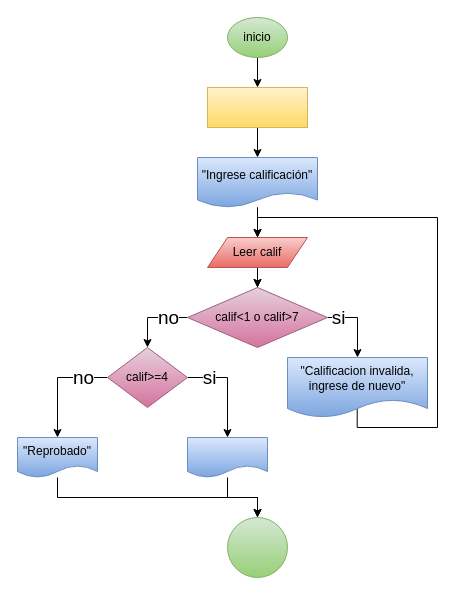
Image size: 463x595. Some labels were removed from this diagram. Each missing label, with the box of its shape:
"Aprobado": (186, 436, 268, 478)
calif(float): (206, 86, 308, 128)
fin: (226, 516, 288, 578)
